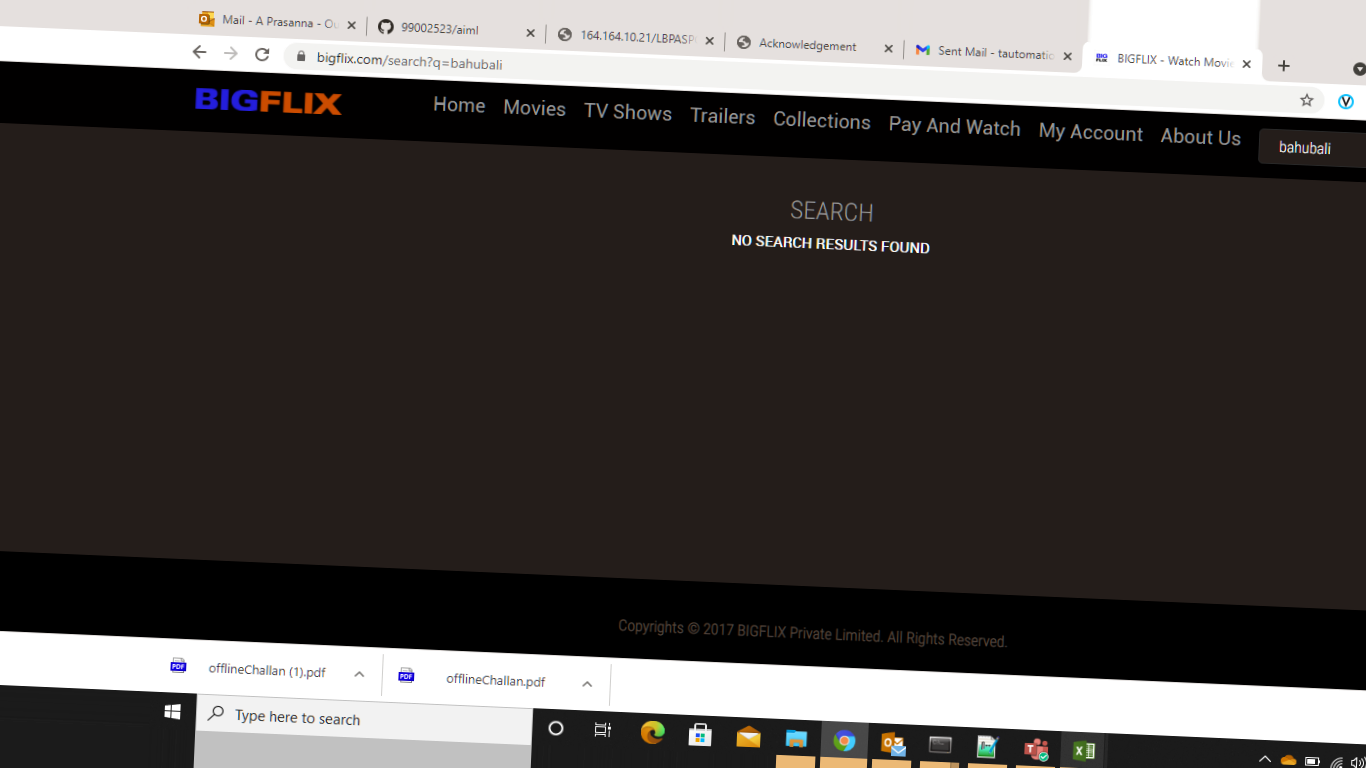myaccountbutton: (1028, 109, 1154, 156)
noresultsfound: (682, 178, 975, 279)
searchtextbox: (1254, 117, 1364, 172)
